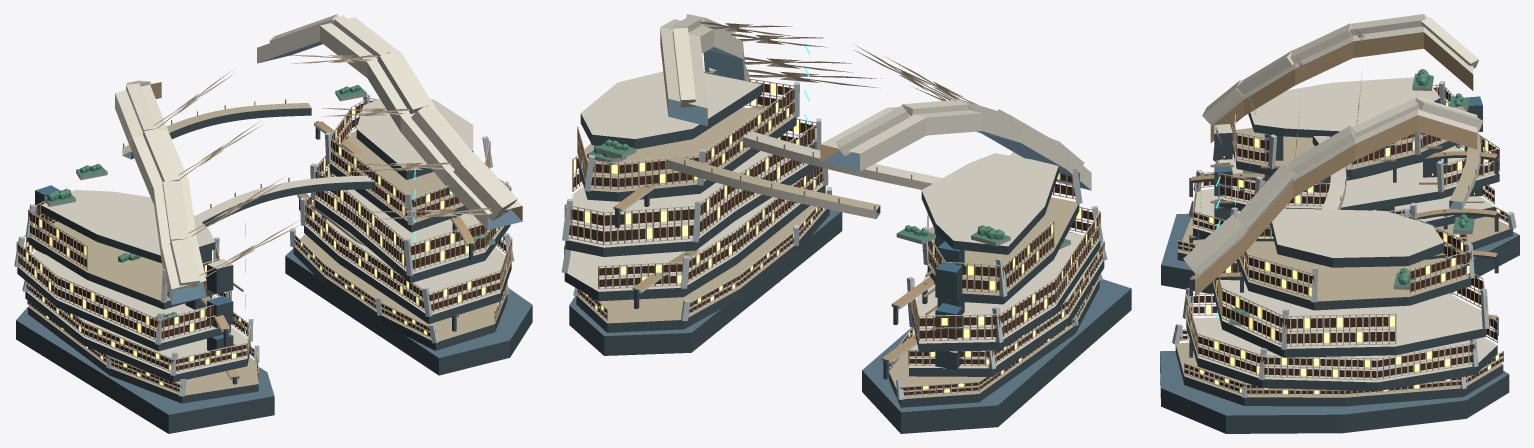
Rendered from G4E7BW_HALOCUT_CONCOURSE_ART_ONLY.glb.
3 renders of one model, left to right at view 1: azimuth 30°, elevation 25°; view 2: azimuth 150°, elevation 25°; view 3: azimuth 270°, elevation 25°, orthographic. The views are drawn at different scales.
Parts seen in each view (by area): view 1: West concourse real concrete inhabited foundation, EAST crossing glass-canopy structural megatruss visibly roof, East occupied ground logistics and transit foundation, W / inhabitable tapered public floor 4, WEST independent station concourse roof megatruss visibly ro, E / inhabitable tapered public floor 1, W / inhabitable tapered public floor 2, E / inhabitable tapered public floor 0, E / inhabitable tapered public floor 2, W / inhabitable tapered public floor 3, W / inhabitable tapered public floor 1, W / inhabitable tapered public floor 0 (+27 smaller); view 2: W / inhabitable tapered public floor 4, West concourse real concrete inhabited foundation, E / inhabitable tapered public floor 4, WEST independent station concourse roof megatruss visibly ro, E / inhabitable tapered public floor 2, E / inhabitable tapered public floor 0, E / inhabitable tapered public floor 1, East occupied ground logistics and transit foundation, E / inhabitable tapered public floor 3, W / inhabitable tapered public floor 2, EAST crossing glass-canopy structural megatruss visibly roof, W / inhabitable tapered public floor 3 (+24 smaller); view 3: East occupied ground logistics and transit foundation, E / inhabitable tapered public floor 2, E / inhabitable tapered public floor 4, E / inhabitable tapered public floor 1, E / inhabitable tapered public floor 3, W / inhabitable tapered public floor 4, EAST crossing glass-canopy structural megatruss visibly roof, WEST independent station concourse roof megatruss visibly ro, E / inhabitable tapered public floor 0, W / inhabitable tapered public floor 2, W / inhabitable tapered public floor 3, West concourse real concrete inhabited foundation (+30 smaller).
Part boxes in pixels (x1=…): West concourse real concrete inhabited foundation: x1=16, y1=307, x2=274, y2=433; EAST crossing glass-canopy structural megatruss visibly roof: x1=257, y1=17, x2=522, y2=229; East occupied ground logistics and transit foundation: x1=285, y1=249, x2=532, y2=375; W / inhabitable tapered public floor 4: x1=41, y1=190, x2=215, y2=263; WEST independent station concourse roof megatruss visibly ro: x1=115, y1=82, x2=206, y2=304; E / inhabitable tapered public floor 1: x1=304, y1=212, x2=511, y2=324; W / inhabitable tapered public floor 2: x1=17, y1=250, x2=230, y2=351; E / inhabitable tapered public floor 0: x1=293, y1=234, x2=507, y2=350; E / inhabitable tapered public floor 2: x1=314, y1=175, x2=510, y2=283; W / inhabitable tapered public floor 3: x1=28, y1=221, x2=215, y2=309; W / inhabitable tapered public floor 1: x1=25, y1=286, x2=250, y2=382; W / inhabitable tapered public floor 0: x1=28, y1=306, x2=258, y2=403; W / inhabitable tapered public floor 4: x1=921, y1=153, x2=1059, y2=254; West concourse real concrete inhabited foundation: x1=862, y1=279, x2=1131, y2=433; E / inhabitable tapered public floor 4: x1=580, y1=71, x2=762, y2=149; WEST independent station concourse roof megatruss visibly ro: x1=820, y1=107, x2=1091, y2=190; E / inhabitable tapered public floor 2: x1=565, y1=151, x2=818, y2=256; E / inhabitable tapered public floor 0: x1=576, y1=205, x2=829, y2=332; E / inhabitable tapered public floor 1: x1=564, y1=179, x2=825, y2=301; East occupied ground logistics and transit foundation: x1=569, y1=210, x2=842, y2=355; E / inhabitable tapered public floor 3: x1=578, y1=107, x2=796, y2=201; W / inhabitable tapered public floor 2: x1=912, y1=232, x2=1100, y2=351; EAST crossing glass-canopy structural megatruss visibly roof: x1=660, y1=19, x2=749, y2=126; W / inhabitable tapered public floor 3: x1=927, y1=197, x2=1079, y2=304; East occupied ground logistics and transit foundation: x1=1160, y1=351, x2=1509, y2=433; E / inhabitable tapered public floor 2: x1=1212, y1=280, x2=1485, y2=357; E / inhabitable tapered public floor 4: x1=1270, y1=208, x2=1444, y2=267; E / inhabitable tapered public floor 1: x1=1186, y1=317, x2=1497, y2=391; E / inhabitable tapered public floor 3: x1=1236, y1=241, x2=1471, y2=310; W / inhabitable tapered public floor 4: x1=1248, y1=77, x2=1440, y2=137; EAST crossing glass-canopy structural megatruss visibly roof: x1=1195, y1=97, x2=1477, y2=296; WEST independent station concourse roof megatruss visibly ro: x1=1210, y1=14, x2=1473, y2=142; E / inhabitable tapered public floor 0: x1=1175, y1=342, x2=1503, y2=406; W / inhabitable tapered public floor 2: x1=1218, y1=147, x2=1499, y2=211; W / inhabitable tapered public floor 3: x1=1232, y1=127, x2=1458, y2=177; West concourse real concrete inhabited foundation: x1=1161, y1=213, x2=1519, y2=294.
Bounding box in the file's own units: 526 × 318 × 371.
Materials: 13 (1 with a texture image).
